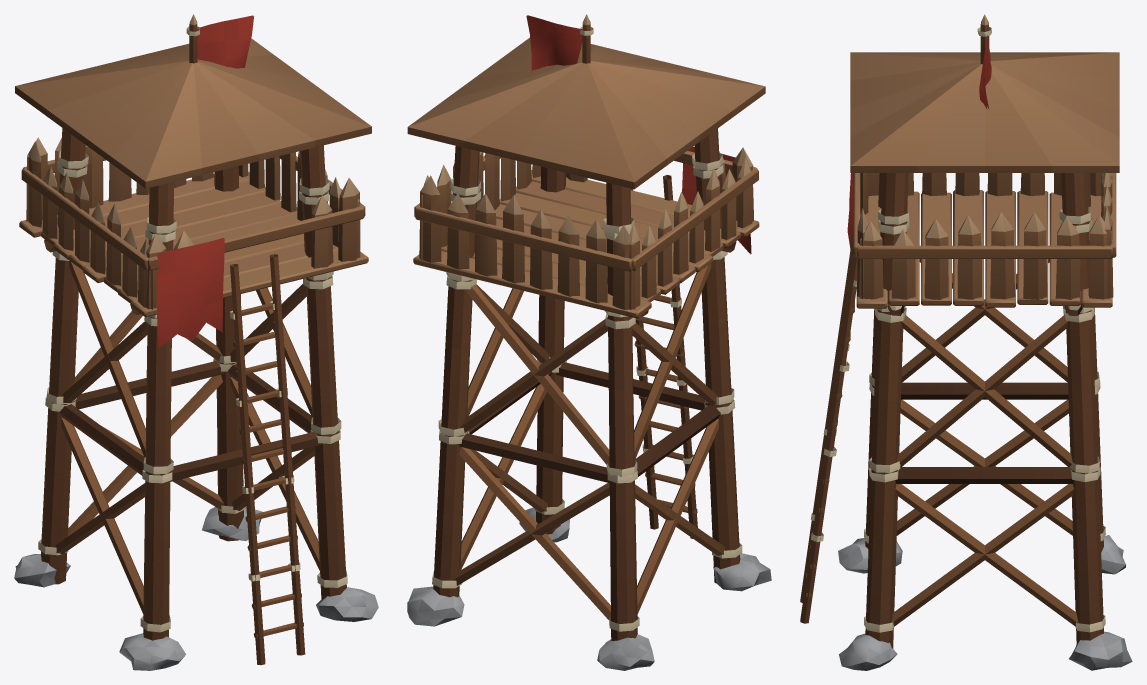
The model's file is muster_watchtower.glb.
The picture shows the model from 3 angles, left to right: view 1: azimuth 30°, elevation 25°; view 2: azimuth 150°, elevation 25°; view 3: azimuth 270°, elevation 25°; orthographic projection. The views are drawn at different scales.
Visible parts, largest first — view 1: MusterWatchtowerBody; view 2: MusterWatchtowerBody; view 3: MusterWatchtowerBody.
Part boxes in pixels (x1=…): MusterWatchtowerBody: x1=14, y1=14, x2=378, y2=670; MusterWatchtowerBody: x1=407, y1=14, x2=771, y2=670; MusterWatchtowerBody: x1=800, y1=14, x2=1132, y2=670.
Size of the model in its own units: 4.48 by 10.06 by 5.07.
